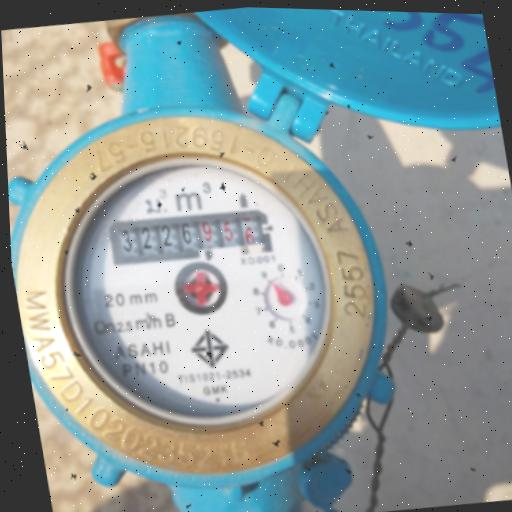2: (137, 225, 157, 256), (158, 223, 178, 254)
3: (117, 227, 138, 258)
5: (218, 218, 238, 246)
6: (239, 215, 259, 245), (178, 221, 197, 251)
9: (198, 219, 218, 249)
border_water_meter_number: (105, 203, 273, 273)
